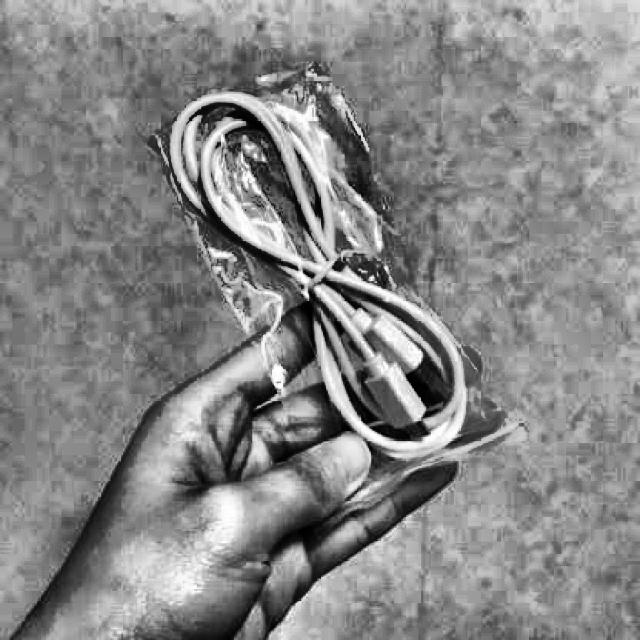Cable: (172, 90, 473, 468)
